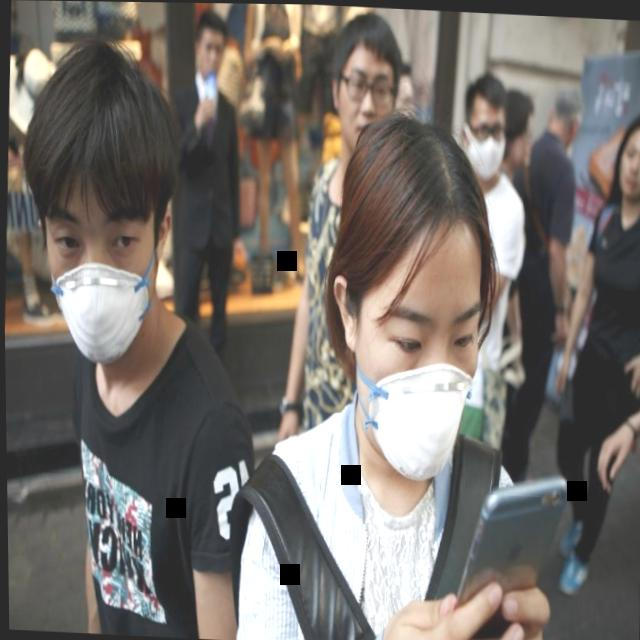Mask: (321, 121, 502, 495), (18, 42, 184, 381), (457, 68, 510, 175)
NO-Mask: (328, 9, 405, 155), (496, 88, 537, 174), (191, 9, 229, 85), (613, 115, 640, 209)
